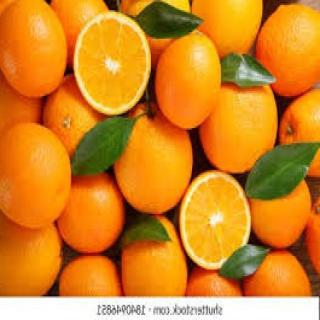orange: (74, 2, 158, 126), (174, 160, 260, 270), (150, 26, 224, 130)
